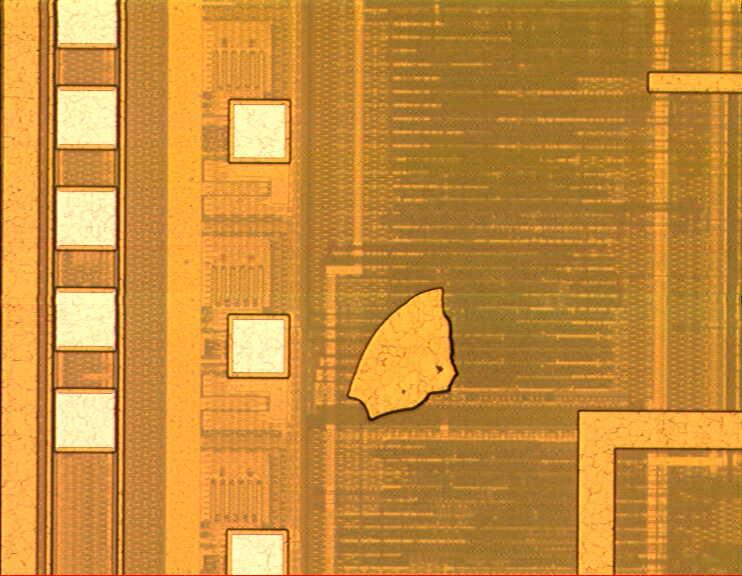BLOCK ETCH: (341, 274, 469, 428)
